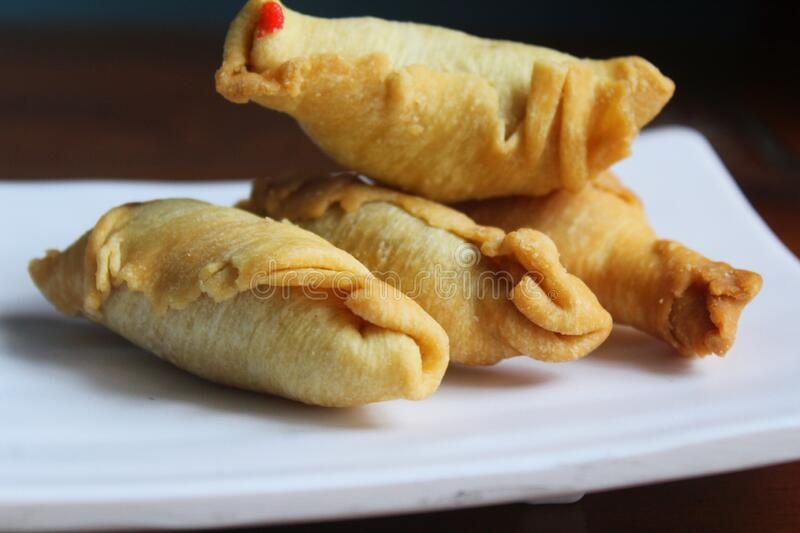pisang_molen: (216, 1, 674, 203), (24, 198, 449, 407)
